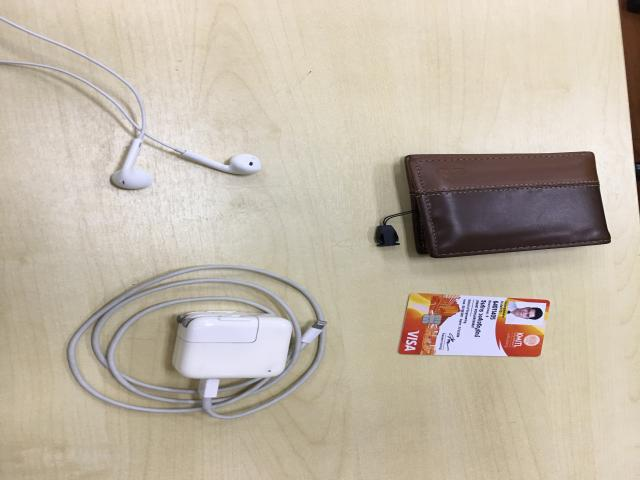Wallet: (401, 152, 613, 260)
wire: (0, 18, 263, 191), (65, 266, 328, 422)
